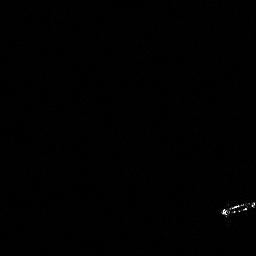ship: (219, 199, 255, 218)
